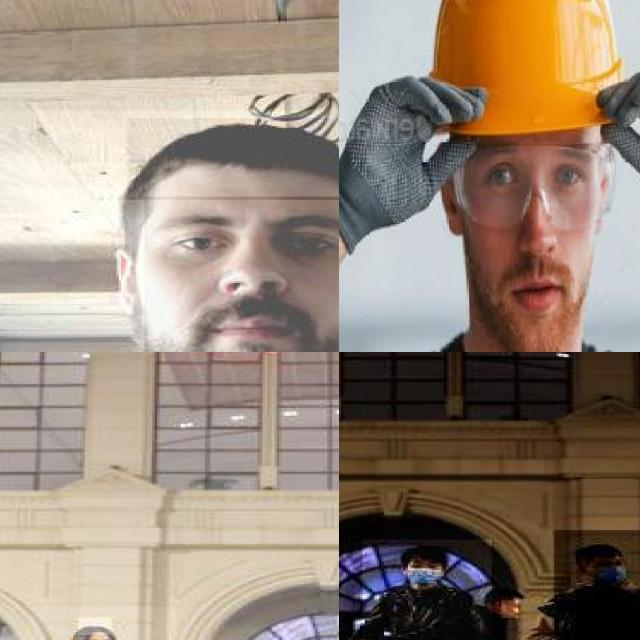No_Ear-Protection: (438, 170, 466, 246)
No_Glasses: (154, 202, 339, 280)
face_mask: (585, 556, 626, 582), (406, 558, 442, 584)
face_nomask: (144, 196, 339, 352), (464, 198, 594, 352), (502, 600, 520, 620)
glasses: (453, 145, 613, 232)
hand_glove: (339, 76, 484, 253)
head_helmet: (430, 0, 622, 136)
head_nohelmet: (127, 118, 339, 199), (561, 541, 631, 562), (401, 546, 451, 562), (78, 618, 111, 635)
person: (0, 110, 339, 352), (362, 539, 494, 640), (554, 530, 640, 640)
